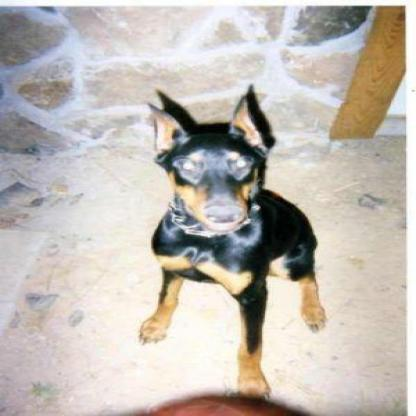Doberman: (136, 94, 327, 402)
